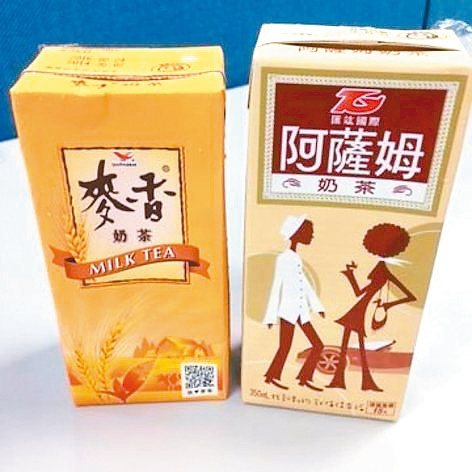鋁箔包: (231, 14, 472, 426), (3, 39, 239, 410)
